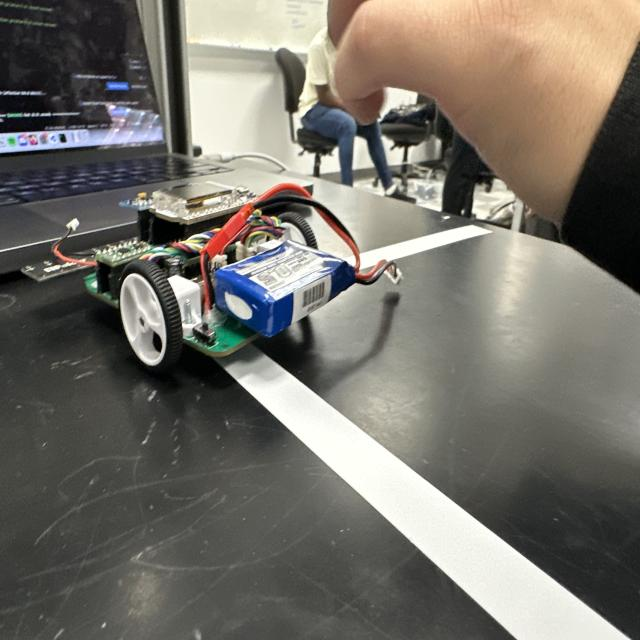robot: (79, 178, 403, 374)
